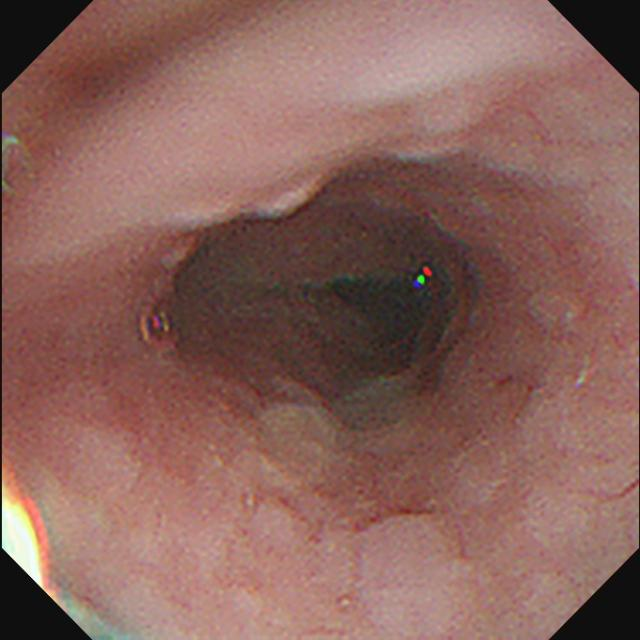E: (299, 266, 449, 389)
U: (3, 469, 54, 595)
